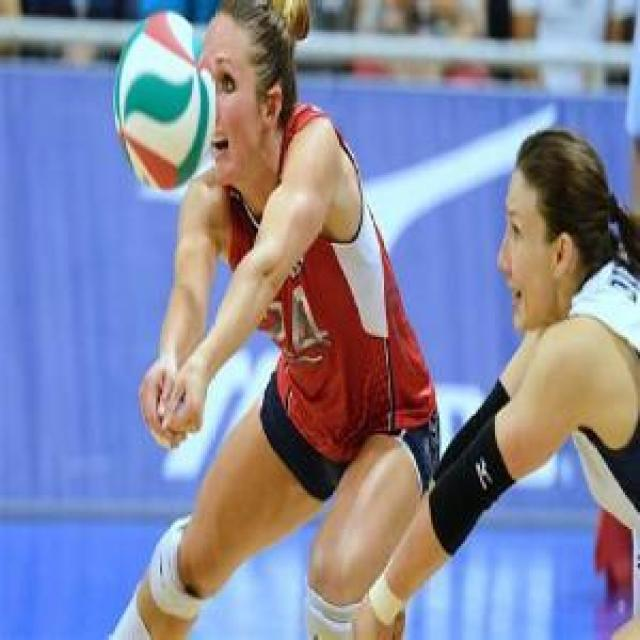volleyball: (112, 10, 214, 188)
